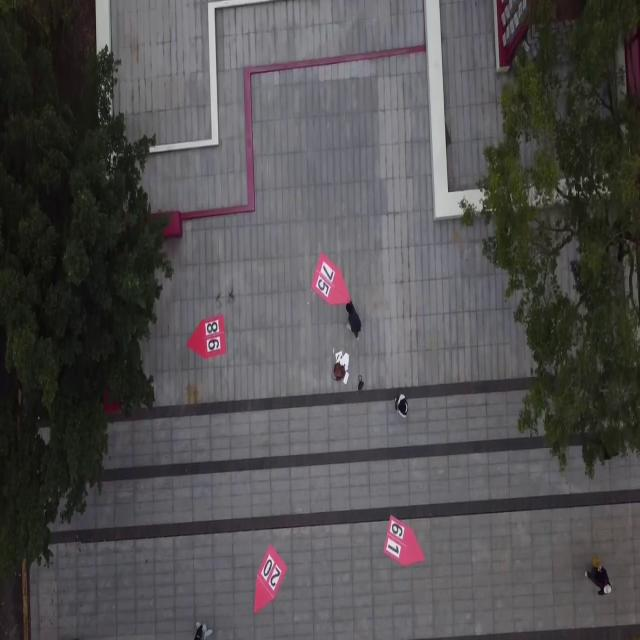-sign-: (249, 536, 289, 620), (308, 248, 356, 315), (381, 510, 429, 570), (186, 313, 226, 360)
